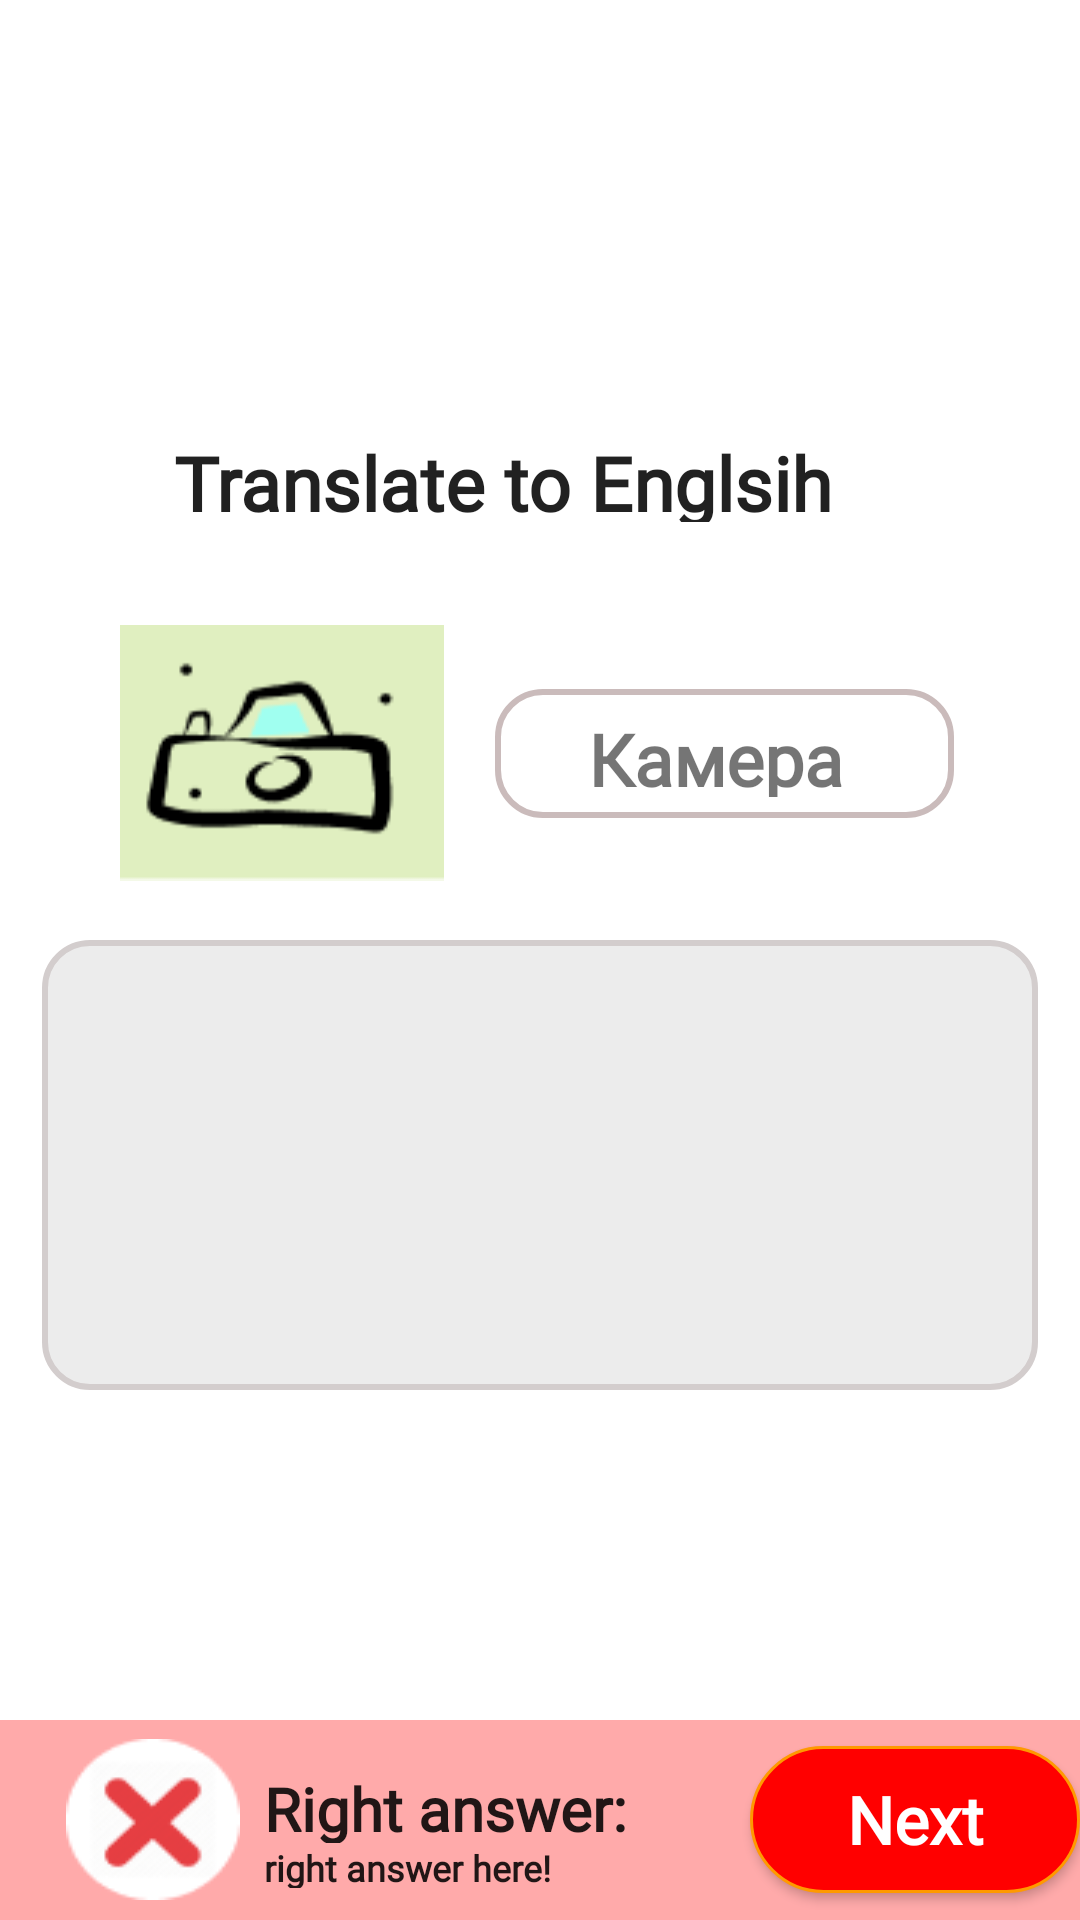

Icons on this 1080x1920 Android screen, each with its box as (x1, y1, x2, y2):
camera: (120, 625, 444, 879)
wrongg: (66, 1739, 240, 1900)
